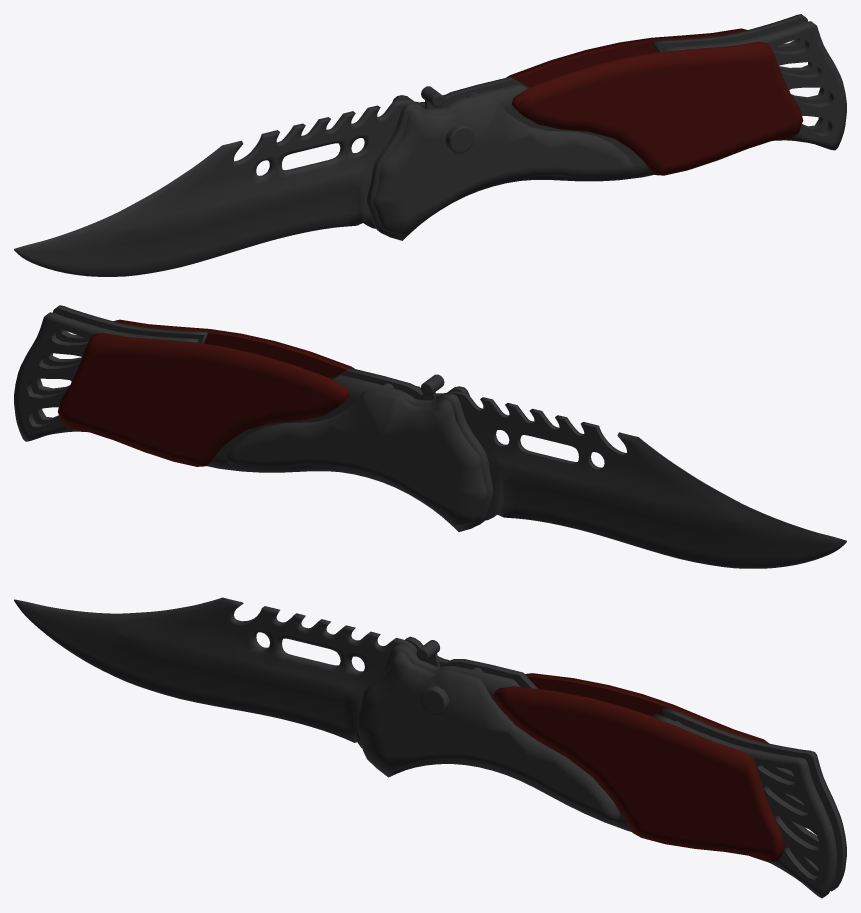
The model's file is uploads-files-1936273-knife.FBX.
3 renders of one model, top to bottom at view 1: azimuth 30°, elevation 25°; view 2: azimuth 150°, elevation 25°; view 3: azimuth 330°, elevation 25°, orthographic.
Visible parts, largest first — view 1: blade_low, woodsupportleft_low, metalsupportleft_low, lefthandle_low, righthandle_low, woodsupportright_low, switch_low; view 2: blade_low, woodsupportright_low, metalsupportright_low, righthandle_low, lefthandle_low, woodsupportleft_low; view 3: blade_low, woodsupportleft_low, metalsupportleft_low, lefthandle_low, righthandle_low, woodsupportright_low, switch_low.
Part boxes in pixels (<box>): blade_low: <box>14,99,413,276</box>; woodsupportleft_low: <box>511,41,803,175</box>; metalsupportleft_low: <box>373,97,633,234</box>; lefthandle_low: <box>367,21,846,240</box>; righthandle_low: <box>392,14,829,133</box>; woodsupportright_low: <box>506,28,746,87</box>; switch_low: <box>445,124,474,153</box>; blade_low: <box>447,391,846,568</box>; woodsupportright_low: <box>57,333,349,466</box>; metalsupportright_low: <box>227,388,487,525</box>; righthandle_low: <box>14,312,493,531</box>; lefthandle_low: <box>31,305,469,424</box>; woodsupportleft_low: <box>113,319,354,378</box>; blade_low: <box>14,597,417,747</box>; woodsupportleft_low: <box>493,686,785,861</box>; metalsupportleft_low: <box>358,651,619,821</box>; lefthandle_low: <box>357,643,837,898</box>; righthandle_low: <box>405,636,846,891</box>; woodsupportright_low: <box>525,673,769,743</box>; switch_low: <box>420,686,449,715</box>.
Size of the model in its own units: 27.87 by 4.96 by 1.52.
